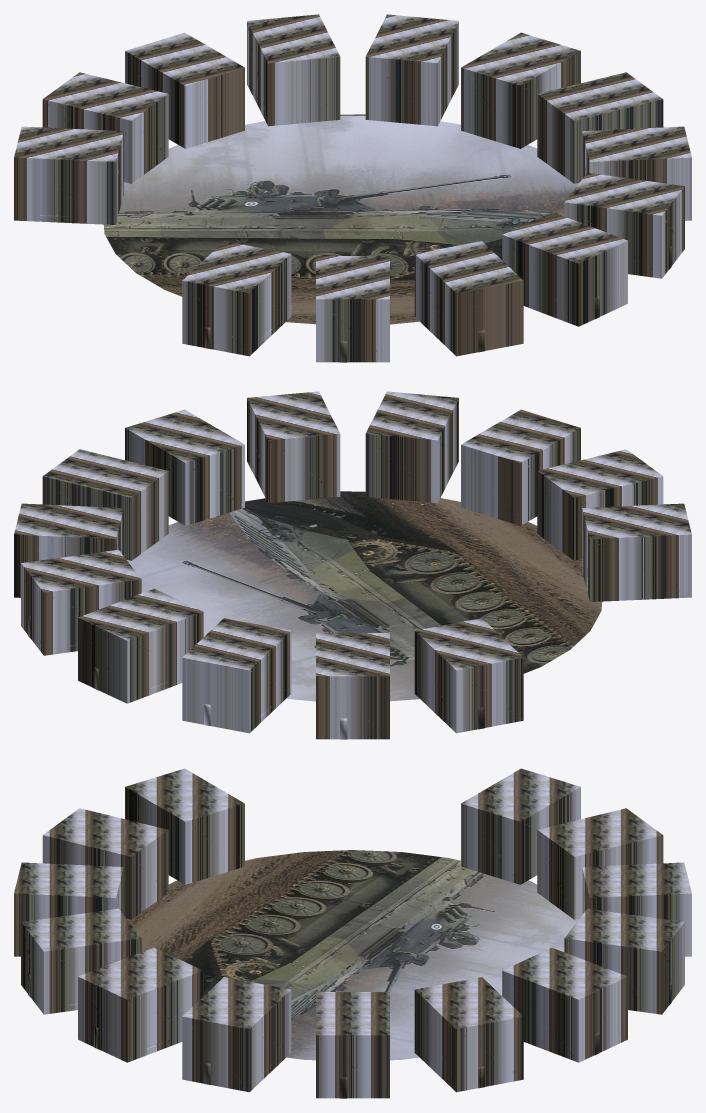
The model's file is CellBlock.gltf.
3 renders of one model, top to bottom at view 1: azimuth 30°, elevation 25°; view 2: azimuth 150°, elevation 25°; view 3: azimuth 270°, elevation 25°, orthographic.
Visible parts, largest first — view 1: BagaArray_Single Cell, Circle.001; view 2: BagaArray_Single Cell, Circle.001; view 3: BagaArray_Single Cell, Circle.001.
Part boxes in pixels (x1,y1,x2,y2): BagaArray_Single Cell: (14,14,691,362); Circle.001: (103,114,578,324); BagaArray_Single Cell: (14,391,691,739); Circle.001: (127,491,602,701); BagaArray_Single Cell: (14,768,691,1098); Circle.001: (127,850,578,1060).
Size of the model in its own units: 35.38 by 3.9 by 37.98.
Materials: 2 (2 with a texture image).
